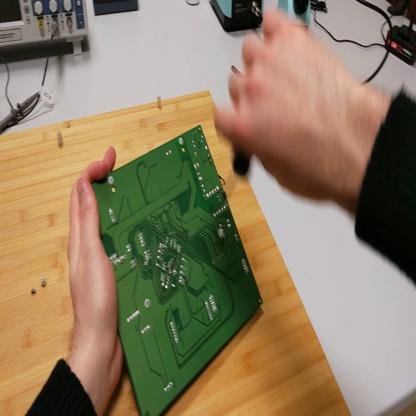electric screwdriver battery: (386, 21, 416, 66)
hand: (222, 13, 353, 204), (66, 148, 123, 382)
low voltage board: (90, 124, 262, 416)
oscilloscope: (1, 1, 89, 60)
oscilloscope probe tip: (1, 93, 40, 134)
screwdriver-: (229, 149, 255, 208)
welder base: (284, 5, 313, 32)
welder station: (210, 2, 264, 37)
working area: (2, 90, 353, 415)
